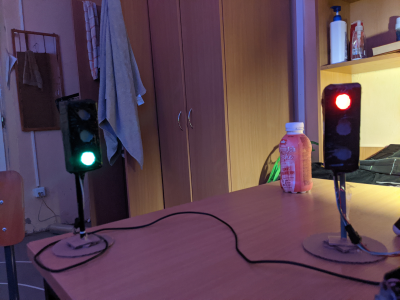trafficlight_green: (67, 101, 100, 171)
trafficlight_red: (325, 85, 359, 171)
